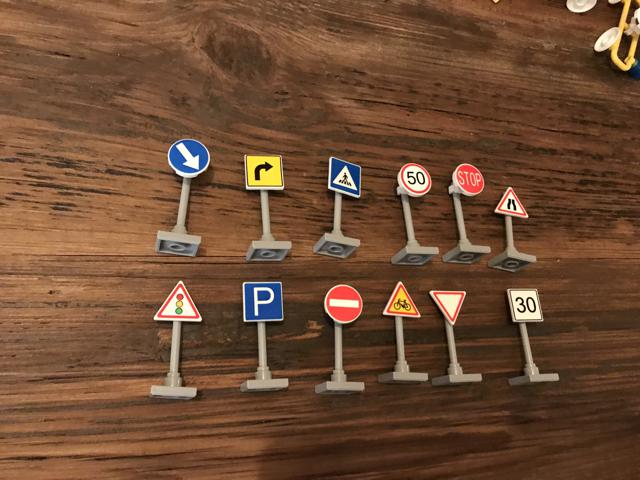fahrtrichtung rechts: (245, 153, 286, 191)
fußgängerüberweg: (324, 160, 365, 198)
lichtzeichenanlage: (153, 280, 203, 324)
parken: (240, 281, 286, 324)
radfahrer: (384, 281, 421, 321)
rechts halten: (166, 138, 214, 176)
stop: (453, 164, 485, 198)
tempolimit 30: (507, 288, 545, 323)
tempolimit 50: (398, 163, 433, 195)
verbot der einfahrt: (323, 284, 362, 325)
verengte fahrbahn: (494, 187, 529, 218)
vorfahrt gewähren: (429, 291, 469, 325)
